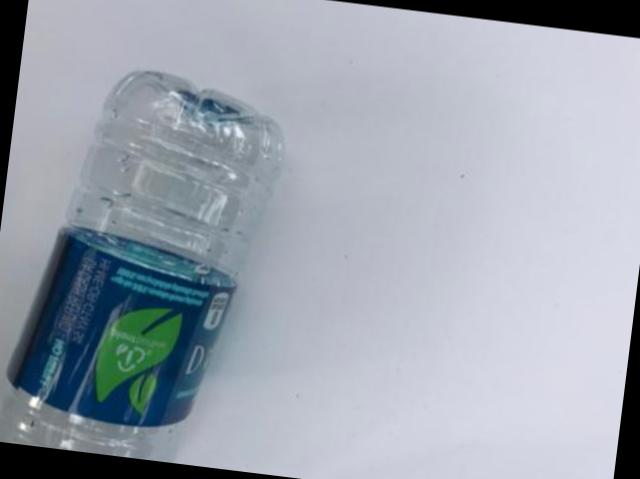plastic: (0, 69, 284, 462)
